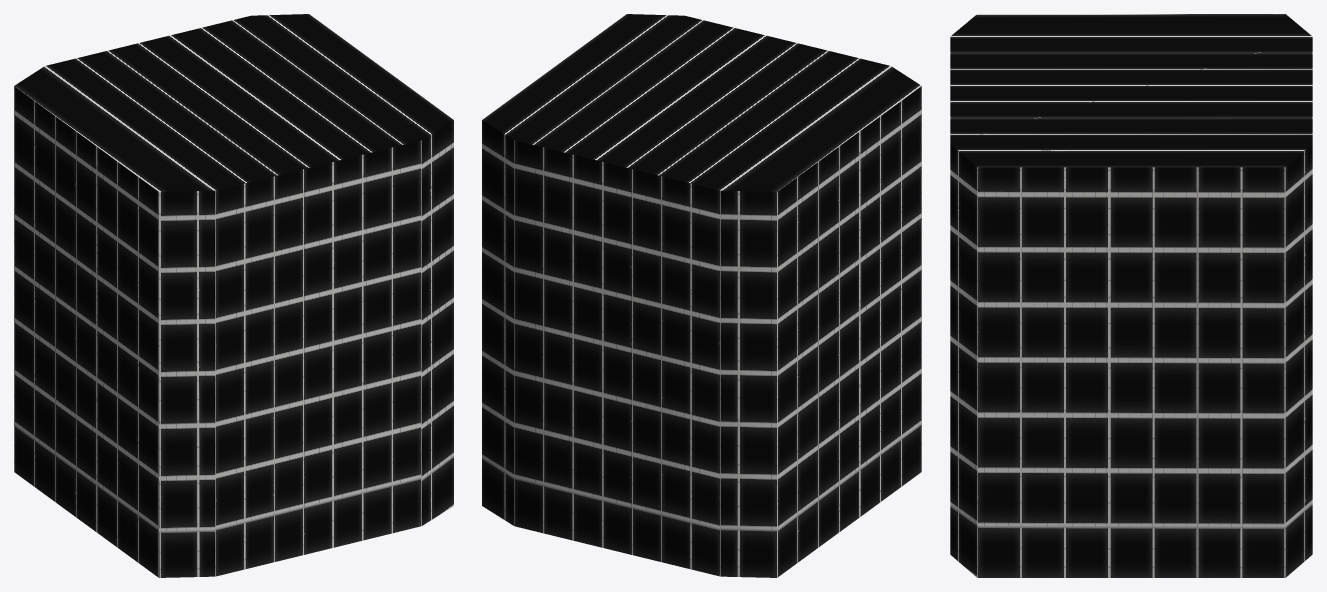
The picture shows the model from 3 angles, left to right: view 1: azimuth 30°, elevation 25°; view 2: azimuth 150°, elevation 25°; view 3: azimuth 270°, elevation 25°; orthographic projection. The views are drawn at different scales.
Visible parts, largest first — view 1: mqo_mesh.001; view 2: mqo_mesh.001; view 3: mqo_mesh.001.
Part boxes in pixels (x1,y1,x2,y2): mqo_mesh.001: [14, 14, 453, 577]; mqo_mesh.001: [482, 14, 921, 577]; mqo_mesh.001: [950, 14, 1312, 577].
Size of the model in its own units: 5000 by 6250 by 5000.
